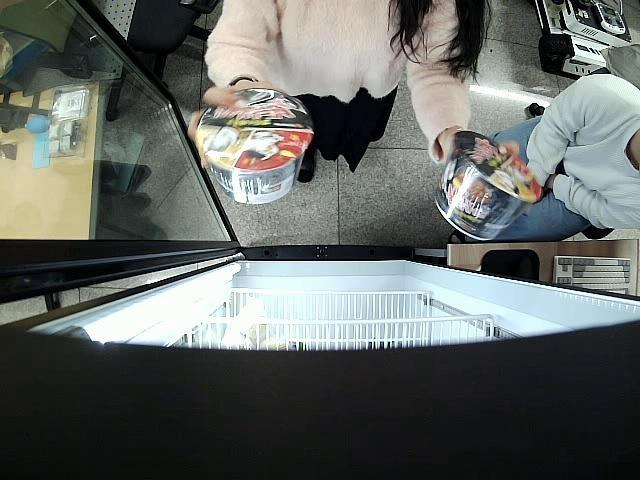07_buldak_L: (194, 88, 312, 204), (436, 130, 542, 242)
